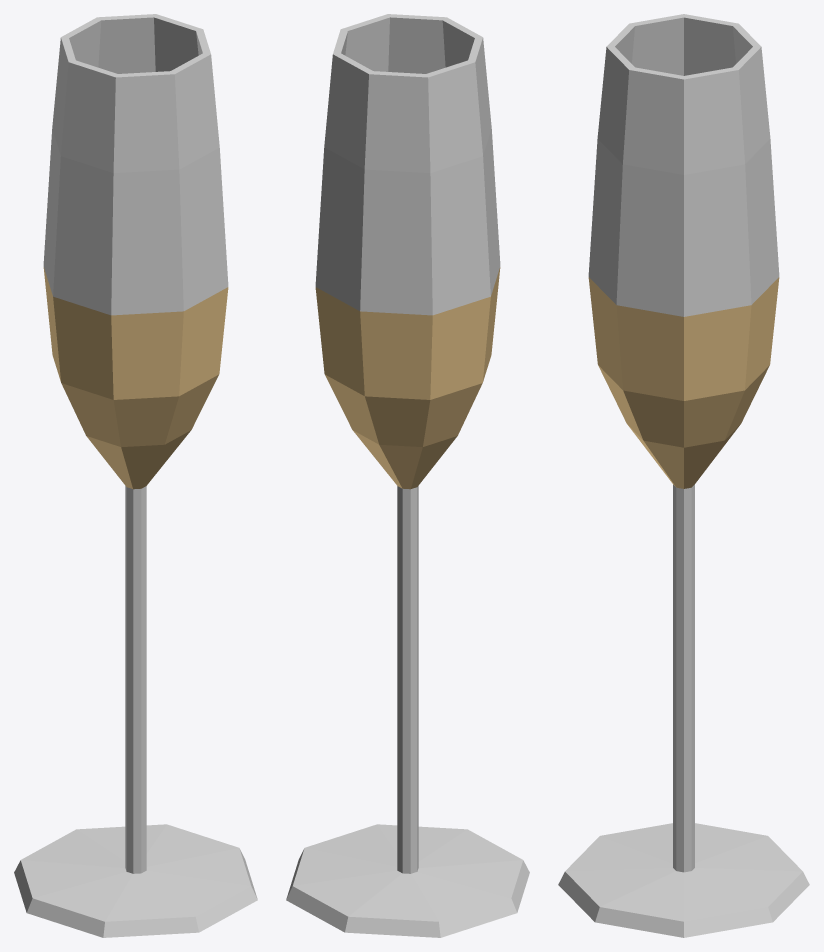
The model's file is Glass_of_Champagne_01.gltf.
3 renders of one model, left to right at view 1: azimuth 30°, elevation 25°; view 2: azimuth 150°, elevation 25°; view 3: azimuth 270°, elevation 25°, orthographic.
Parts seen in each view (by area): view 1: node-0; view 2: node-0; view 3: node-0.
Part boxes in pixels (left/top/right/bottom): node-0: left=14, top=14, right=257, bottom=937; node-0: left=286, top=14, right=529, bottom=937; node-0: left=558, top=14, right=809, bottom=937.
Size of the model in its own units: 2.71 by 9.94 by 2.71.
